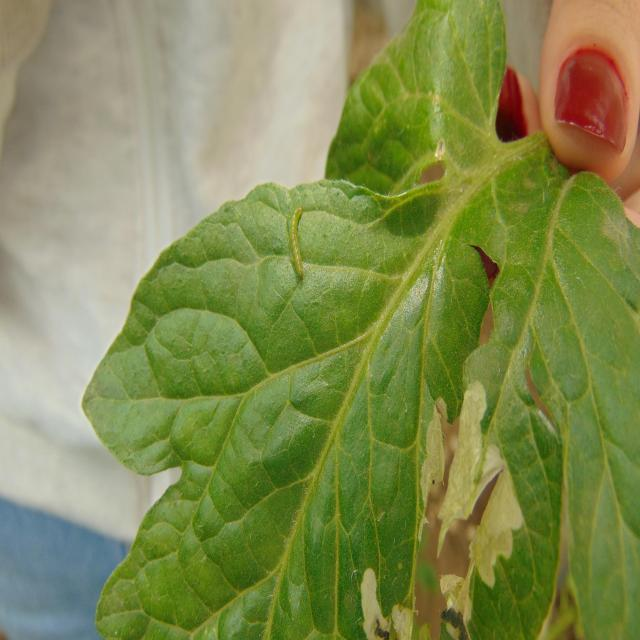Tuta absoluta: (430, 379, 515, 561), (459, 467, 539, 589), (417, 406, 453, 506), (350, 566, 392, 640), (440, 562, 475, 625), (392, 605, 413, 640)
